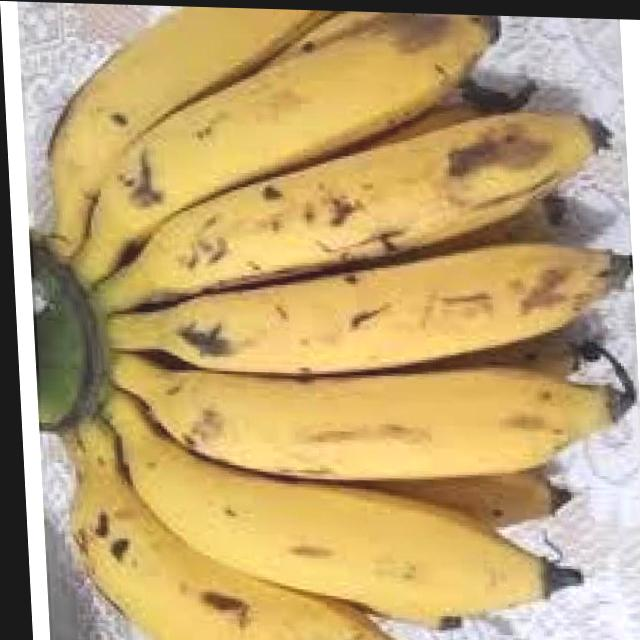banana: (25, 1, 640, 640), (130, 92, 621, 302), (82, 2, 512, 231), (134, 444, 587, 625), (159, 220, 639, 382), (145, 348, 639, 490)
